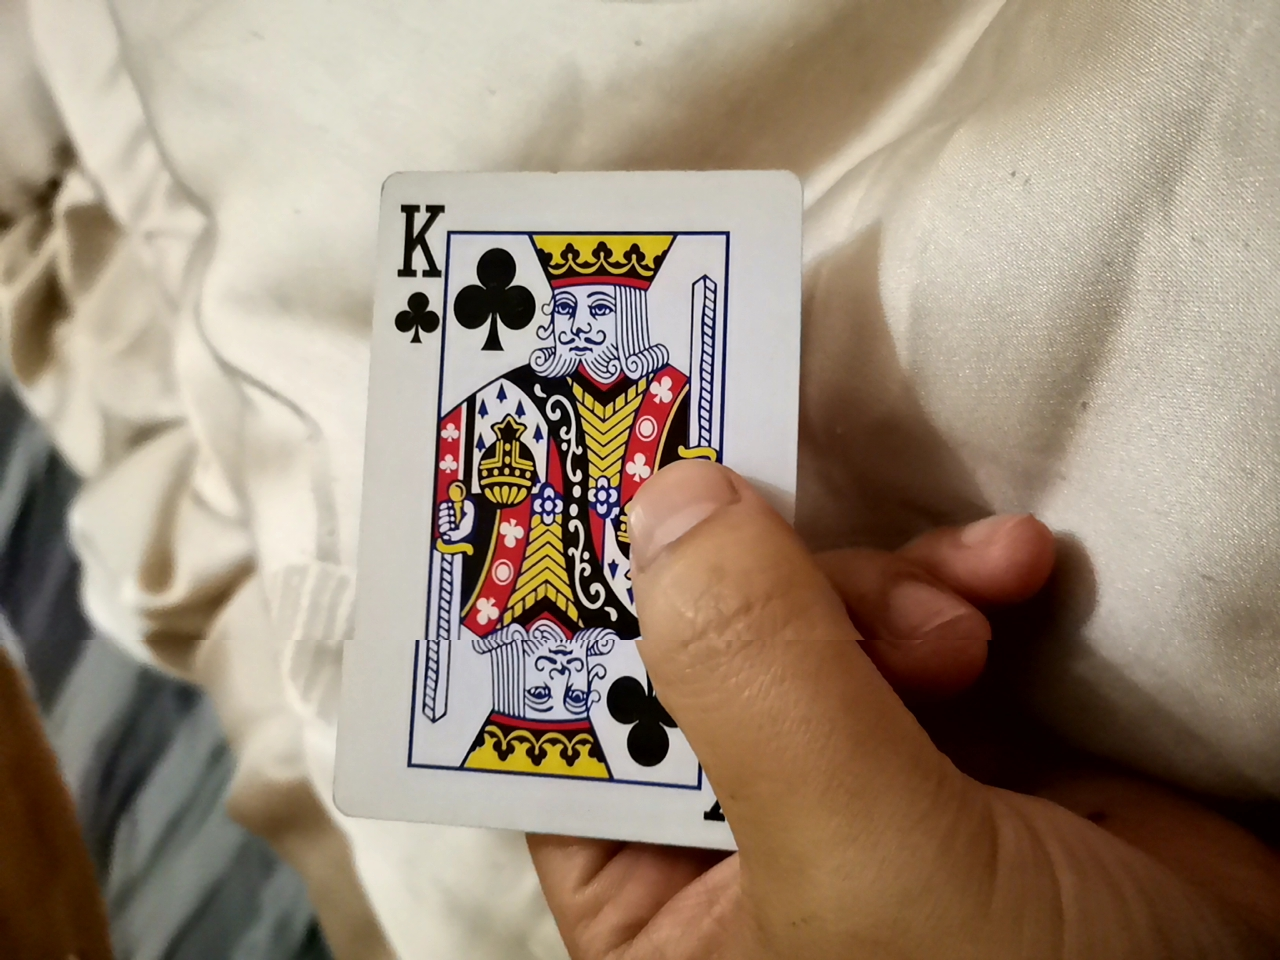mh k: (362, 169, 813, 892)
